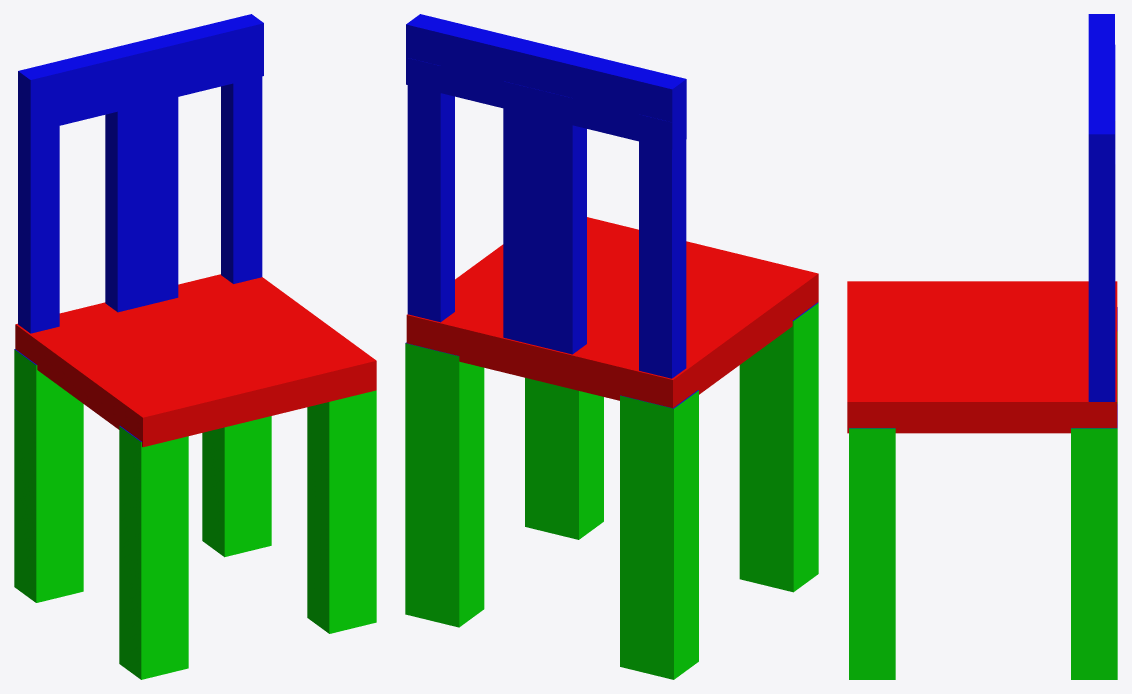
The model's file is chair.fbx.
3 views of the same model, side by side, from view 1: azimuth 30°, elevation 25°; view 2: azimuth 150°, elevation 25°; view 3: azimuth 270°, elevation 25° (orthographic). The views are drawn at different scales.
Parts seen in each view (by area): view 1: Cube.006; view 2: Cube.006; view 3: Cube.006.
Boxes of the visible parts, <box> form: Cube.006: <box>14,14,376,679</box>; Cube.006: <box>405,14,818,679</box>; Cube.006: <box>847,14,1117,679</box>.
Size of the model in its own units: 225 by 470 by 211.
